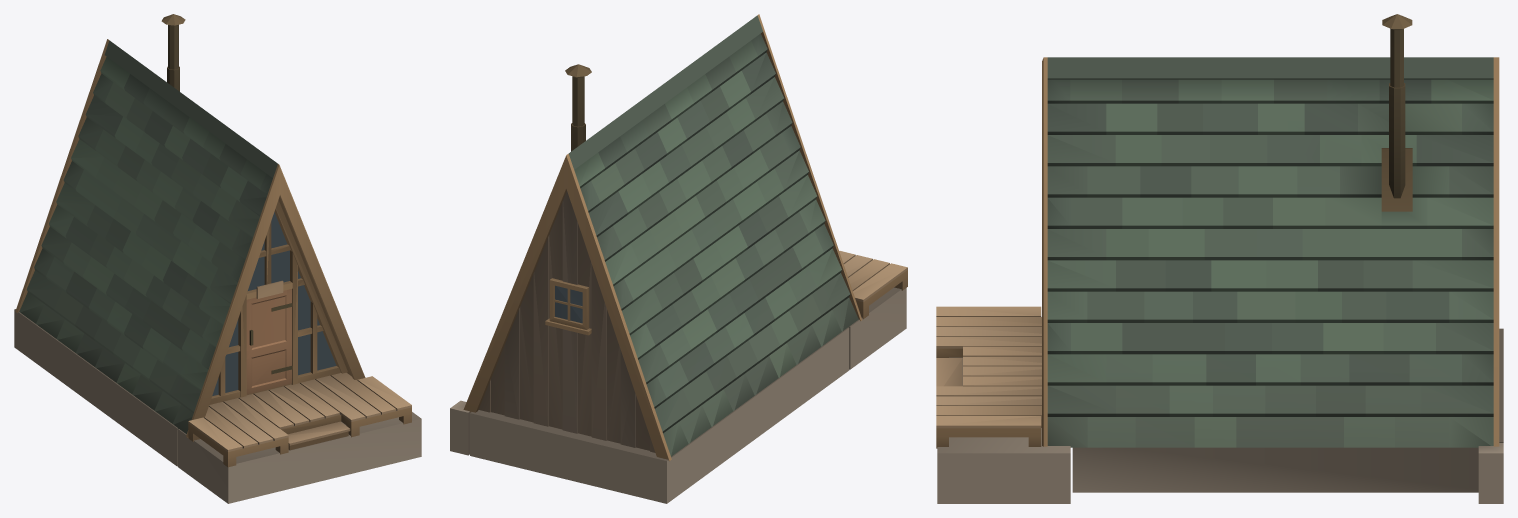
File: aframe.glb
3 views of the same model, side by side, from view 1: azimuth 30°, elevation 25°; view 2: azimuth 150°, elevation 25°; view 3: azimuth 270°, elevation 25° (orthographic). The views are drawn at different scales.
Parts seen in each view (by area): view 1: aframe; view 2: aframe; view 3: aframe.
Boxes of the visible parts, <box> form: aframe: <box>14,14,421,503</box>; aframe: <box>450,14,907,503</box>; aframe: <box>936,14,1503,503</box>.
Bounding box in the file's own units: 5.48 × 9.01 × 10.48.
